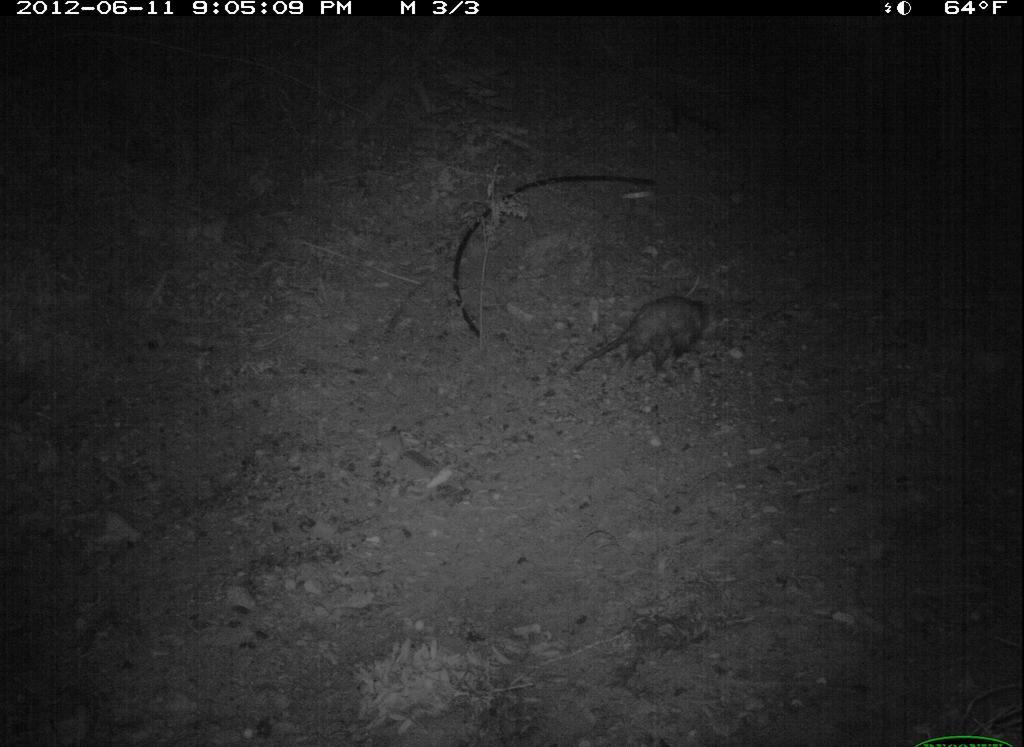opossum: (582, 280, 738, 419)
